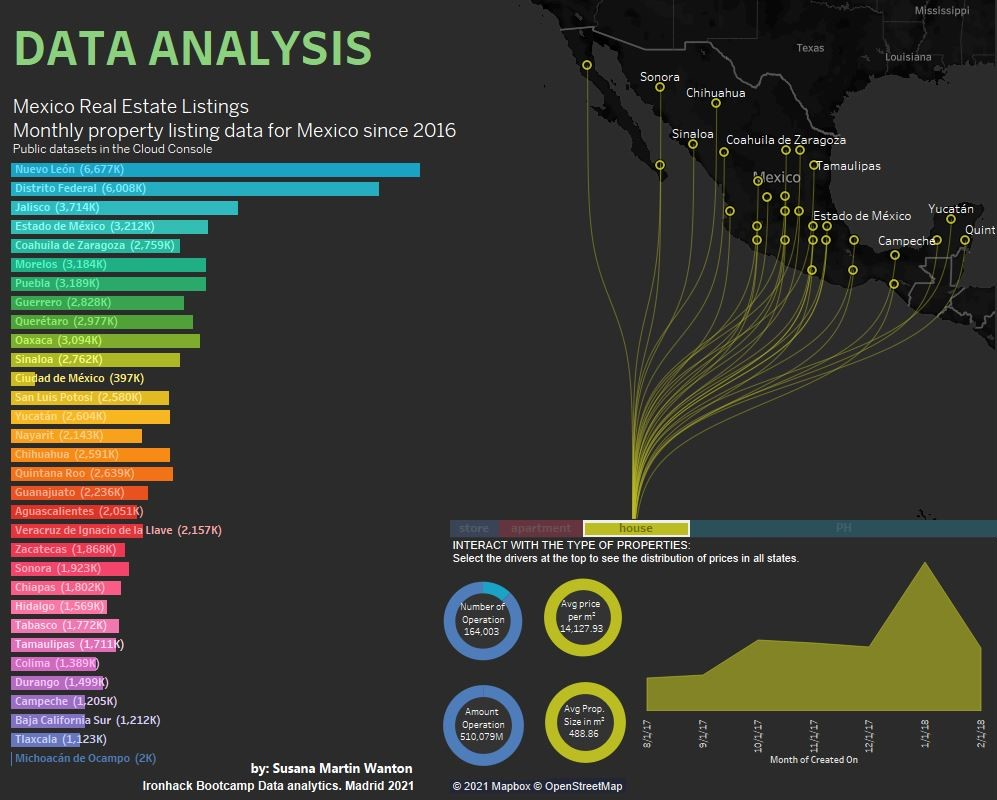

The dashboard page shown, as its layout file describes it:
{"tool":"tableau","page":{"name":"Dashboard 1","canvas":[1000,800],"ordinal":0},"visuals":[{"type":"worksheet","box":[11,6,539,159]},{"type":"worksheet","title":"Estados","mark":"Automatic","rows":["state_name"],"cols":["price"],"box":[12,160,429,609]},{"type":"worksheet","box":[451,537,541,30]},{"type":"worksheet","title":"Operation/date","mark":"Area","rows":["operation"],"cols":["created_on"],"box":[631,555,368,218]},{"type":"worksheet","title":"KPI 1 (3)","mark":"Pie","cols":["Calculation_804455526848184341","Calculation_804455526848446487"],"box":[525,565,118,105]},{"type":"worksheet","title":"KPI 1","mark":"Pie","cols":["Calculation_804455526848184341","Calculation_804455526848446487"],"box":[429,568,110,106]},{"type":"worksheet","title":"KPI 1 (4)","mark":"Pie","cols":["Calculation_804455526848184341","Calculation_804455526848446487"],"box":[531,668,111,109]},{"type":"worksheet","title":"KPI 1 (2)","mark":"Pie","cols":["Calculation_804455526848184341","Calculation_804455526848446487"],"box":[423,671,123,109]},{"type":"worksheet","box":[249,758,257,26]},{"type":"worksheet","box":[141,775,350,22]}]}

Visuals, with their boxes in screenshot pixels (x1, y1, x2, y2), scaled from the page's 1000x800 canvas onto the 997x800 screenshot:
worksheet: <region>11, 6, 548, 165</region>
"Estados" worksheet: <region>12, 160, 440, 769</region>
worksheet: <region>450, 537, 989, 567</region>
"Operation/date" worksheet (Area marks): <region>629, 555, 996, 773</region>
"KPI 1 (3)" worksheet (Pie marks): <region>523, 565, 641, 670</region>
"KPI 1" worksheet (Pie marks): <region>428, 568, 537, 674</region>
"KPI 1 (4)" worksheet (Pie marks): <region>529, 668, 640, 777</region>
"KPI 1 (2)" worksheet (Pie marks): <region>422, 671, 544, 780</region>
worksheet: <region>248, 758, 504, 784</region>
worksheet: <region>141, 775, 490, 797</region>
